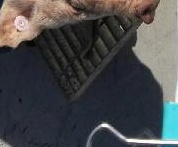text: (2, 9, 41, 41)
